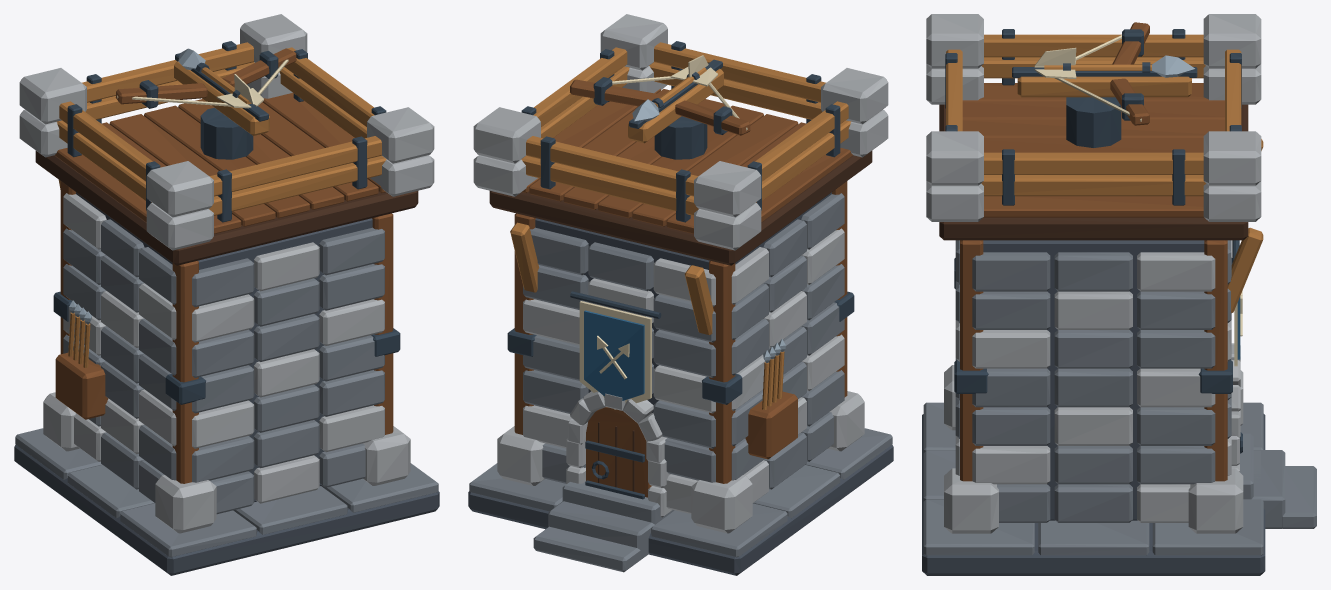
Rendered from tower_archer.glb.
The picture shows the model from 3 angles, left to right: view 1: azimuth 30°, elevation 25°; view 2: azimuth 150°, elevation 25°; view 3: azimuth 270°, elevation 25°; orthographic projection. The views are drawn at different scales.
Parts seen in each view (by area): view 1: body, ballista, aim_pivot, loaded_bolt; view 2: body, ballista, aim_pivot, loaded_bolt; view 3: body, ballista, aim_pivot, loaded_bolt.
Boxes of the visible parts, left/top/right/bottom form: body: left=14, top=14, right=439, bottom=575; ballista: left=115, top=48, right=296, bottom=135; aim_pivot: left=200, top=107, right=253, bottom=159; loaded_bolt: left=178, top=48, right=263, bottom=108; body: left=468, top=14, right=893, bottom=575; ballista: left=570, top=59, right=750, bottom=143; aim_pivot: left=654, top=116, right=707, bottom=159; loaded_bolt: left=632, top=55, right=717, bottom=121; body: left=922, top=14, right=1316, bottom=575; ballista: left=1012, top=22, right=1197, bottom=125; aim_pivot: left=1066, top=97, right=1121, bottom=147; loaded_bolt: left=1034, top=47, right=1195, bottom=79.
Size of the model in its own units: 2.5 by 3.68 by 2.88.
